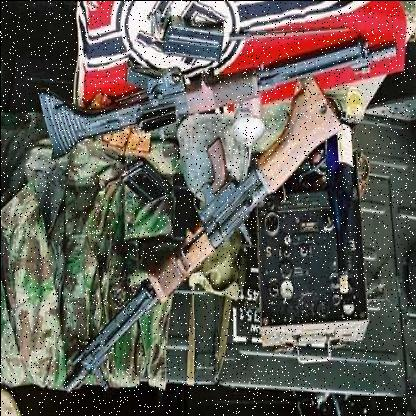rifle: (50, 69, 339, 402), (1, 1, 393, 166)
